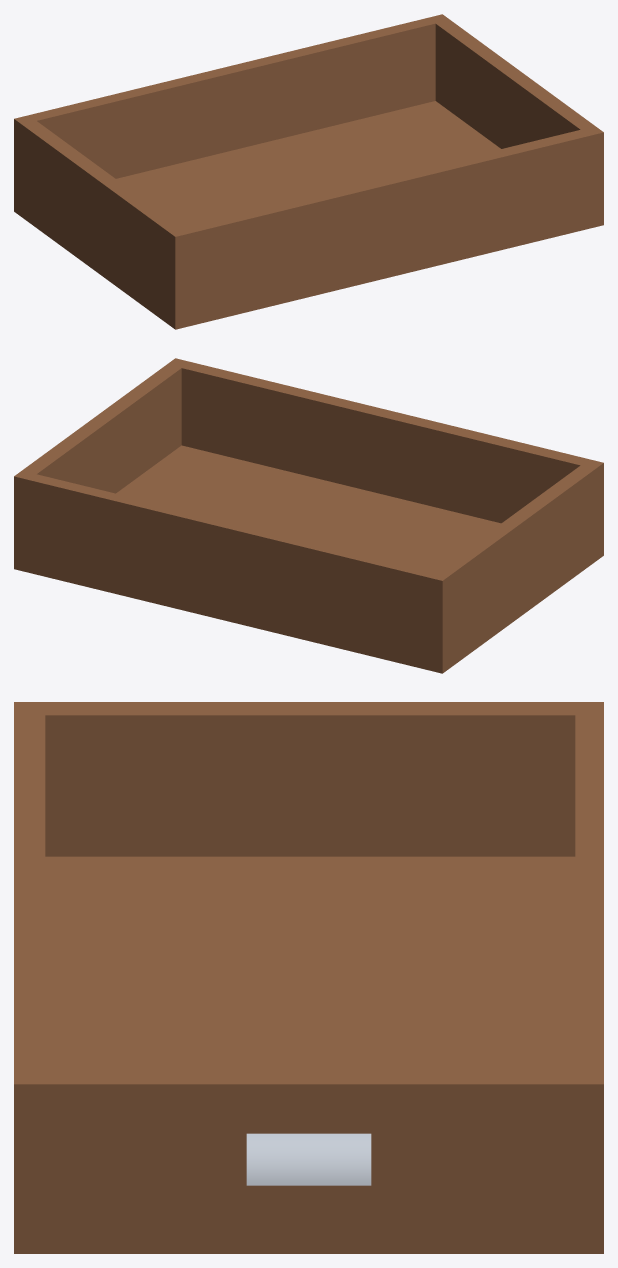
File: small drawer.dae
3 views of the same model, one above another, from view 1: azimuth 30°, elevation 25°; view 2: azimuth 150°, elevation 25°; view 3: azimuth 270°, elevation 25° (orthographic). The views are drawn at different scales.
Visible parts, largest first — view 1: SketchUp (×3); view 2: SketchUp (×3); view 3: SketchUp (×3), group_0.
Part boxes in pixels (x1=…): SketchUp (×3): x1=14, y1=14, x2=603, y2=329; SketchUp (×3): x1=14, y1=358, x2=603, y2=673; SketchUp (×3): x1=14, y1=702, x2=603, y2=1253; group_0: x1=246, y1=1133, x2=371, y2=1185.
Size of the model in its own units: 23.82 by 14.9 by 4.72.
Materials: 2 (2 with a texture image).
